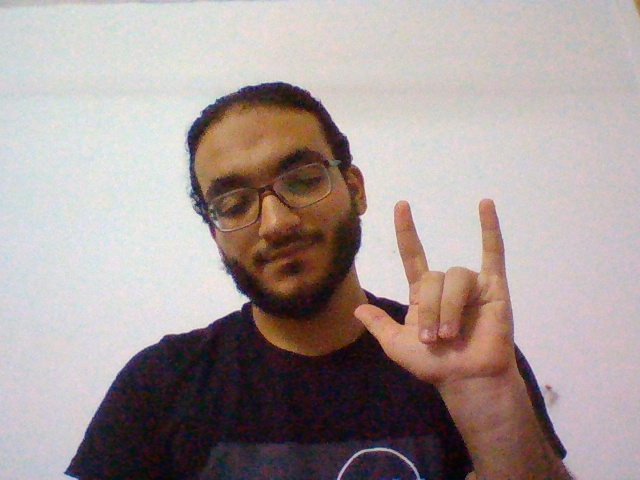I Love Yoy: (354, 196, 525, 390)
